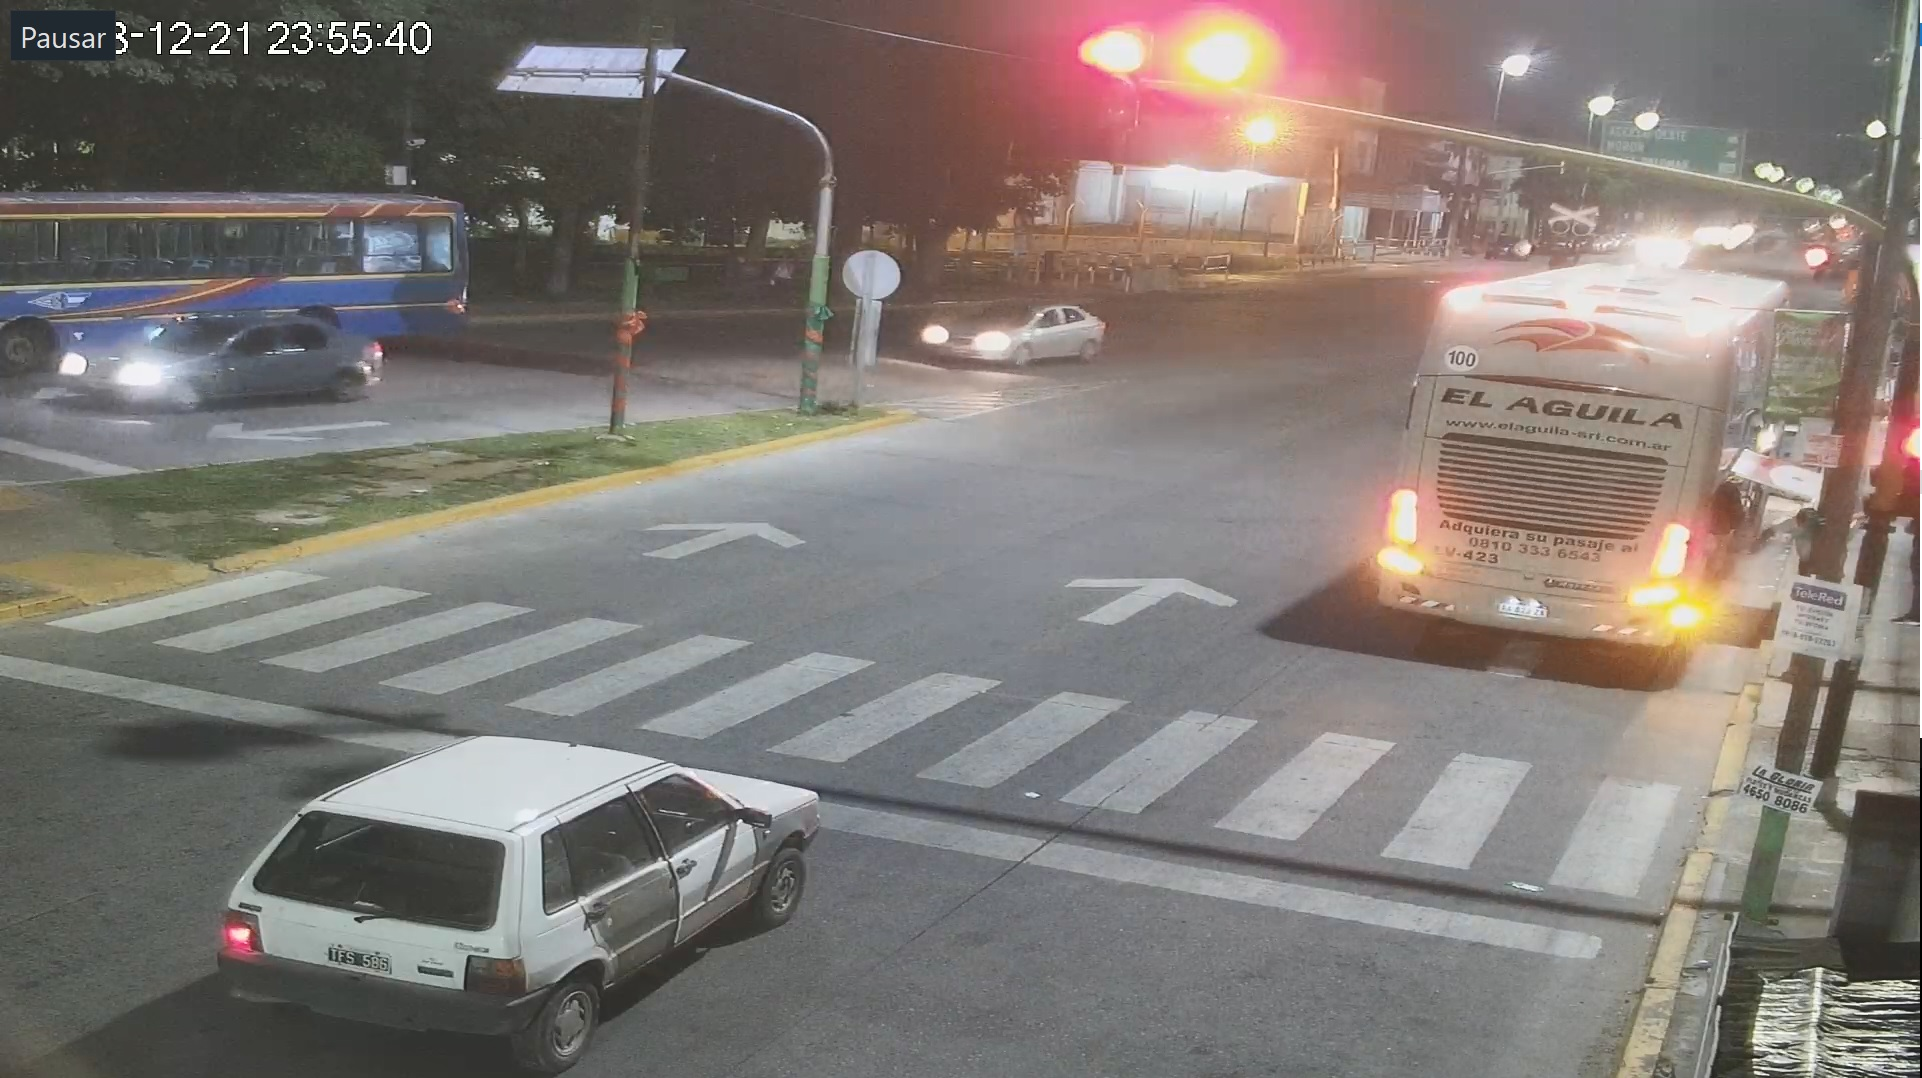bus: (1354, 255, 1799, 673), (1, 170, 484, 379)
car: (191, 707, 834, 1067), (73, 301, 385, 421), (903, 281, 1113, 377)
